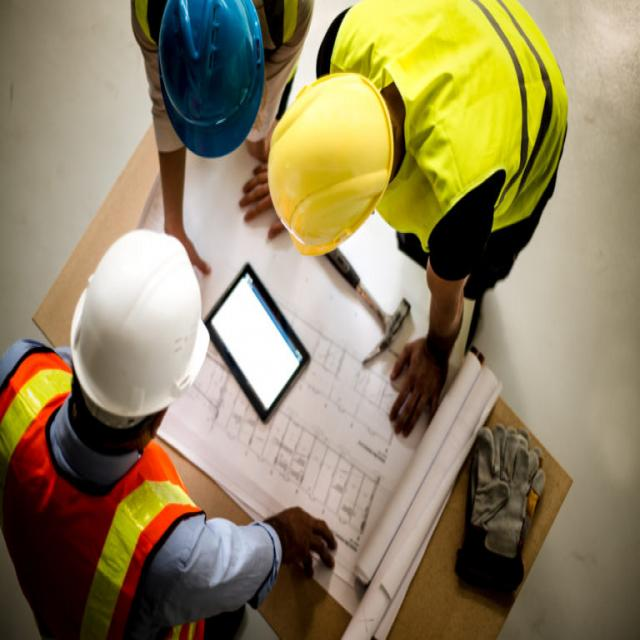Reflective-Jacket: (335, 1, 573, 264), (1, 345, 206, 640)
Safety-Helmet: (65, 222, 210, 423), (264, 67, 398, 257), (154, 3, 268, 160)
